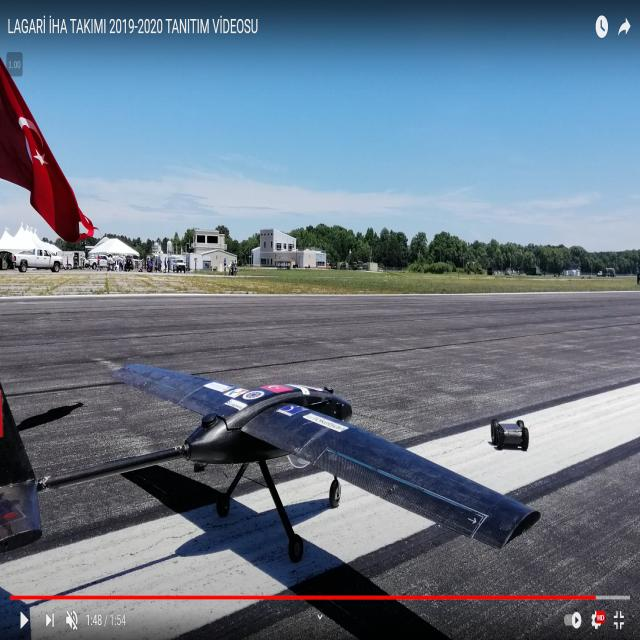iha: (106, 361, 543, 566)
